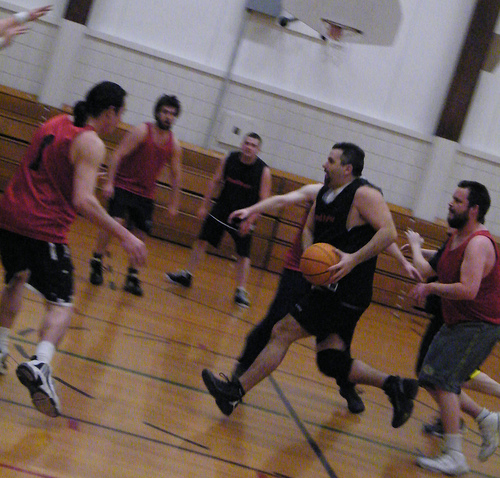basketball: (300, 241, 343, 287)
